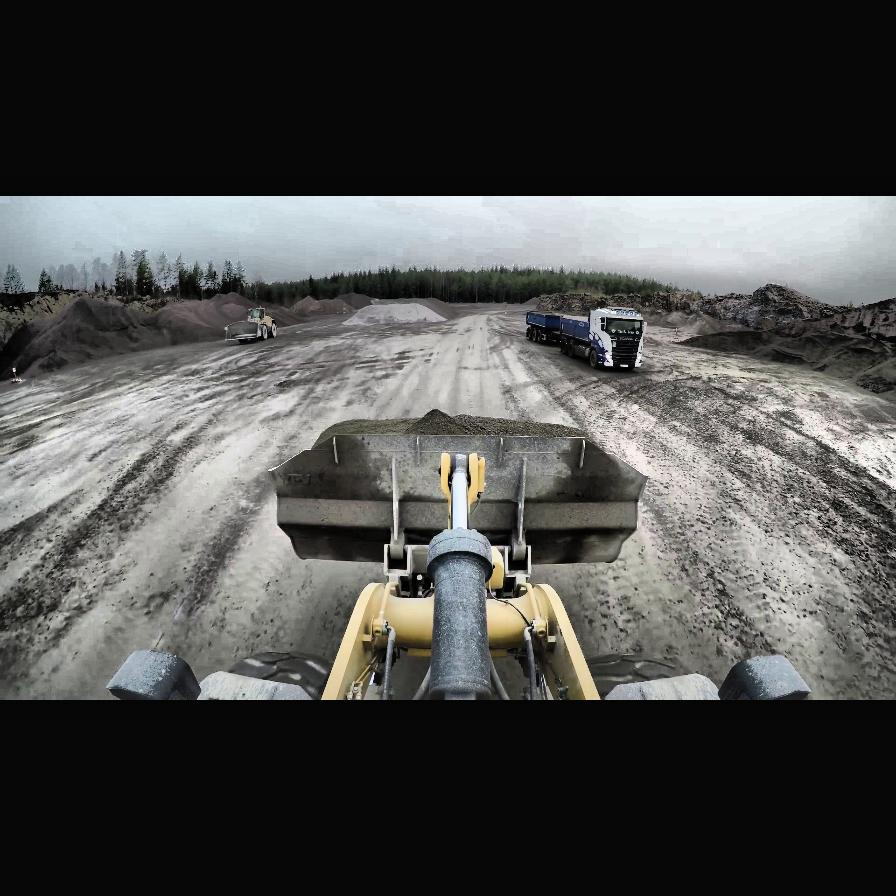anchor: (439, 452, 485, 526)
pile of gravel: (1, 293, 168, 383), (702, 326, 896, 394), (155, 291, 309, 349), (538, 290, 686, 320), (676, 329, 782, 357), (340, 303, 450, 327), (375, 296, 467, 320), (282, 296, 356, 314), (203, 292, 257, 310), (519, 297, 543, 307)
